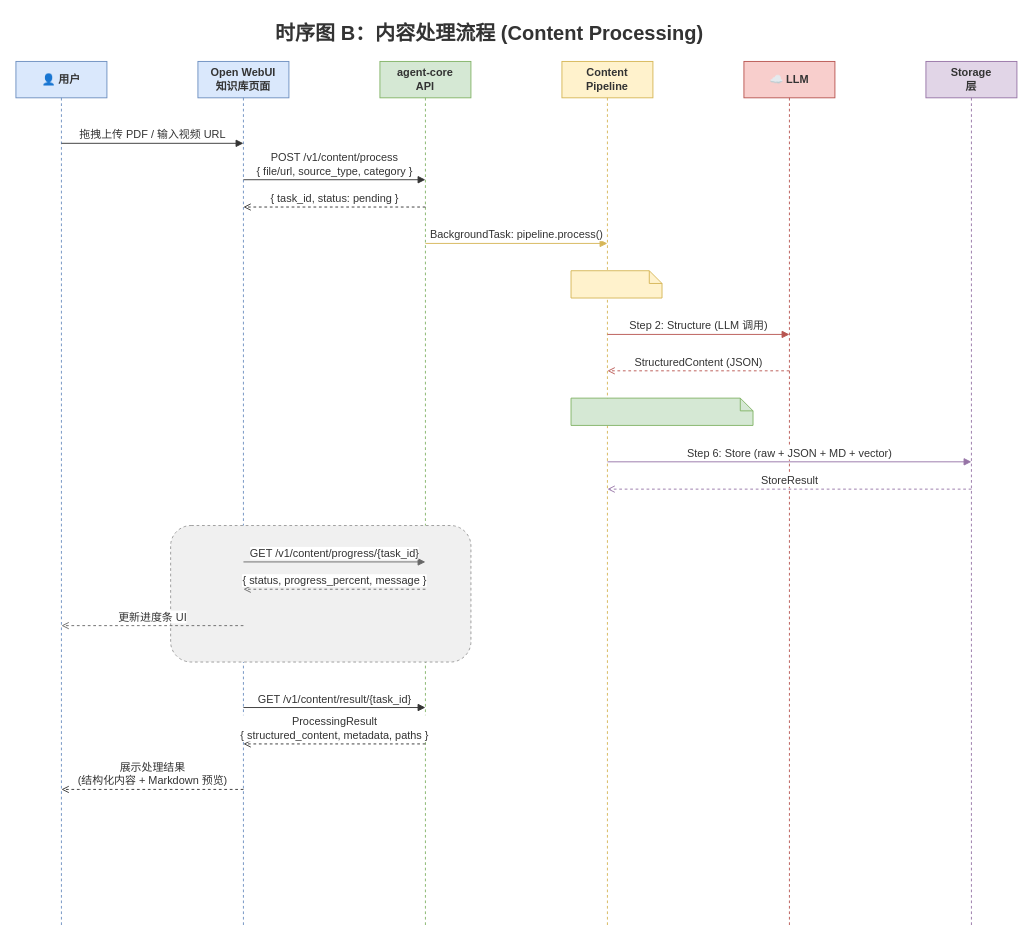
Image size: 1033x942. Some labels were removed from this diagram. The centre of each missing label's shape, as x and y in pixels:
"loop [每 2 秒轮询]" goes at (x=320, y=593).
"Step 1: Extract" goes at (x=616, y=284).
"Step 3-5: Enrich → Chunk → Embed" goes at (x=661, y=411).
